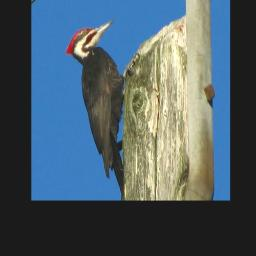Woodpecker: (62, 20, 136, 197)
